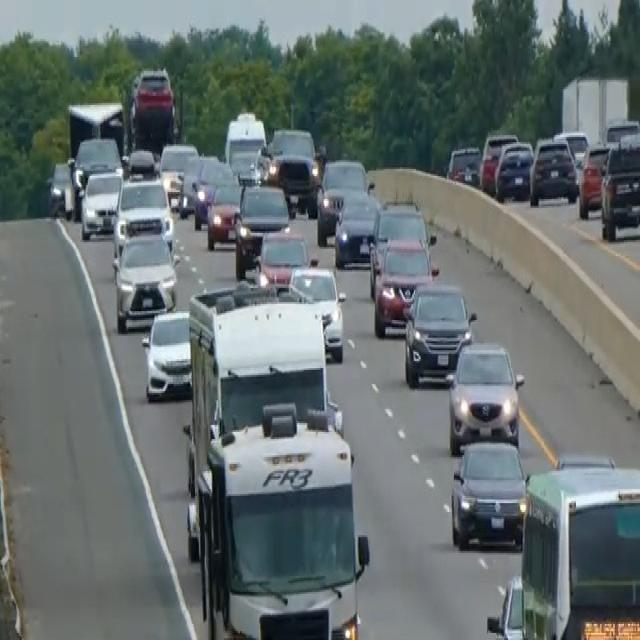bus: (182, 279, 343, 560), (194, 402, 370, 638), (519, 454, 639, 638)
car: (446, 339, 524, 454), (450, 438, 528, 550), (402, 279, 476, 388), (373, 235, 439, 338), (112, 230, 177, 332), (368, 197, 431, 295), (287, 261, 346, 361), (233, 180, 290, 278), (112, 176, 174, 258), (265, 126, 321, 215), (315, 157, 370, 246), (141, 308, 193, 402), (67, 135, 122, 217), (599, 133, 639, 240), (129, 64, 176, 146), (333, 188, 380, 268), (255, 226, 312, 288), (529, 137, 578, 206), (79, 167, 123, 238), (192, 156, 234, 230), (158, 140, 198, 208), (177, 151, 218, 217), (205, 179, 243, 249), (486, 572, 525, 638), (577, 140, 610, 218), (479, 130, 518, 194), (494, 139, 533, 201), (553, 128, 589, 174), (47, 158, 74, 217), (446, 142, 481, 187), (123, 146, 159, 180)
minibus: (223, 109, 266, 180)
